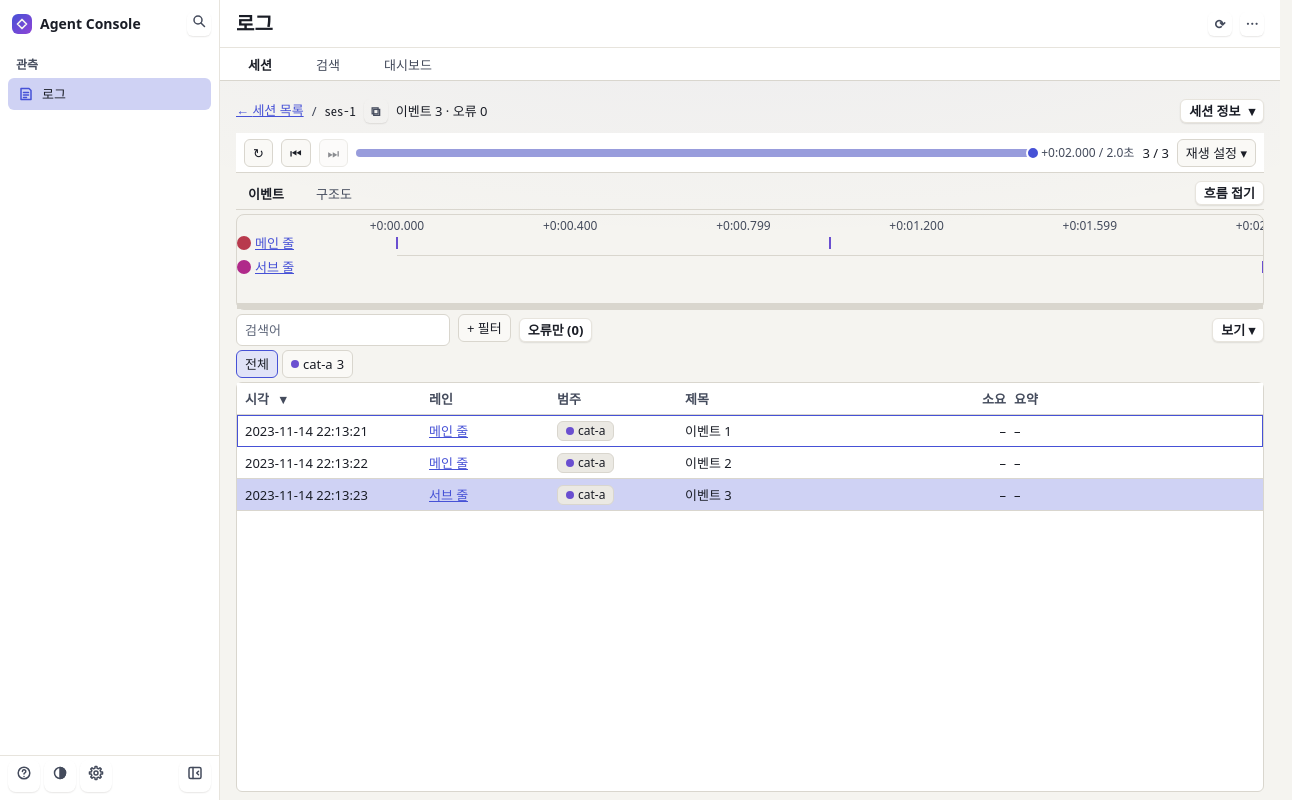
Test: 세션 상세 [구조도] 뷰 탭 › 뷰 탭 [구조도]를 처음 고르기 전에는 질의하지 않고, 고르면 범위(세션·레인)로 질의한다
Click the tab "구조도" at (336, 195), box [304,177,368,213]
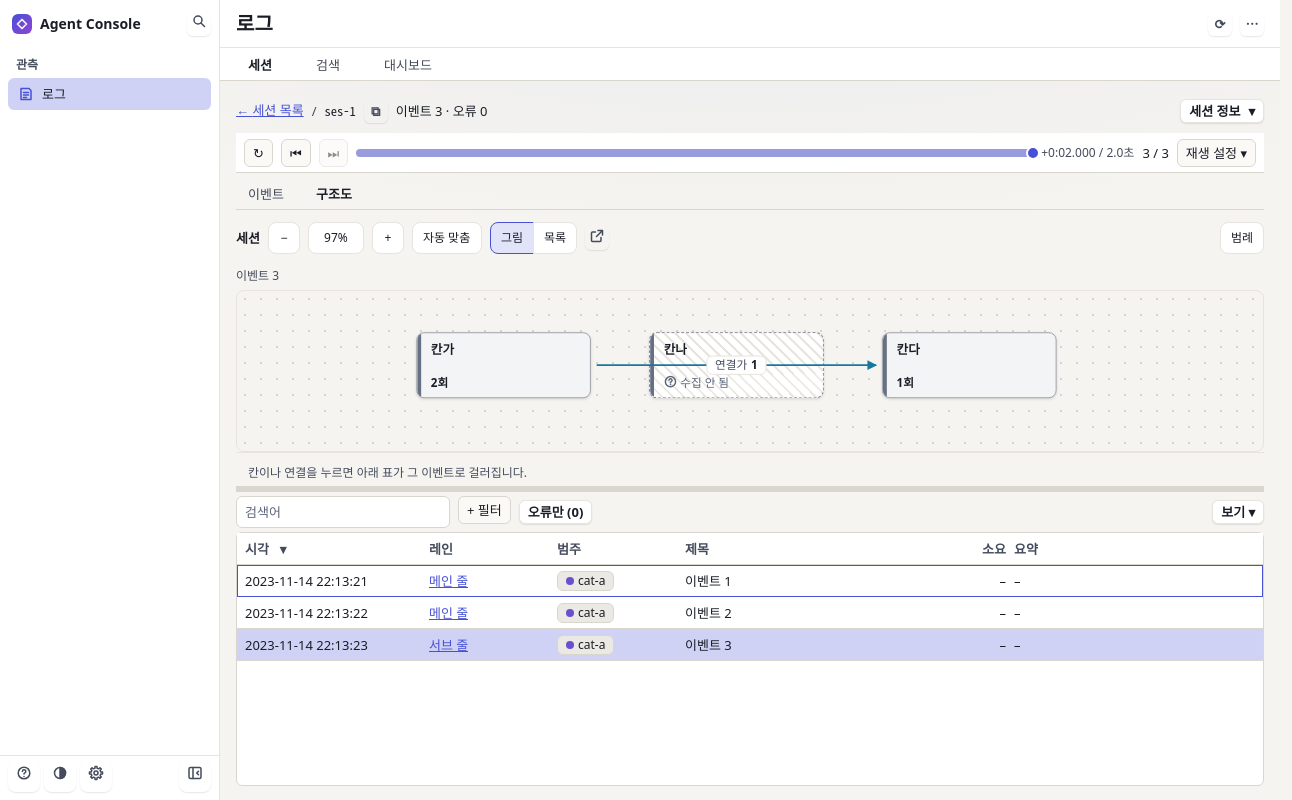
expect the element named "구조도" is shown: met, box [236,214,1264,486]
